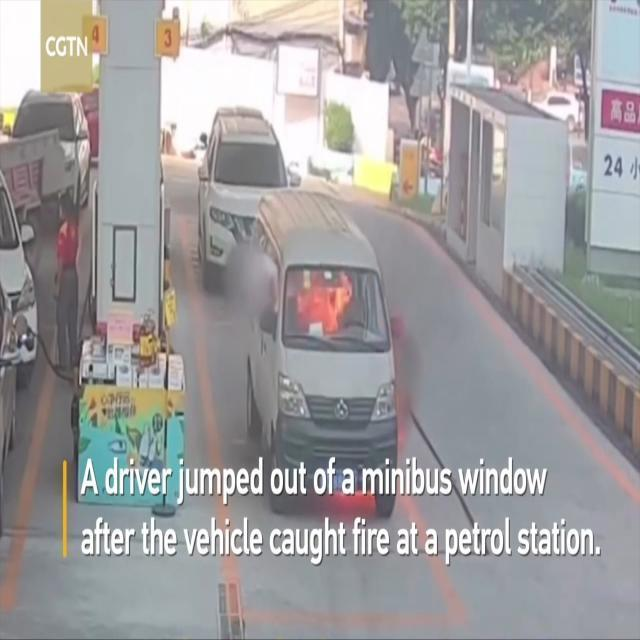fire: (286, 266, 354, 340), (392, 330, 419, 470), (309, 488, 382, 514)
